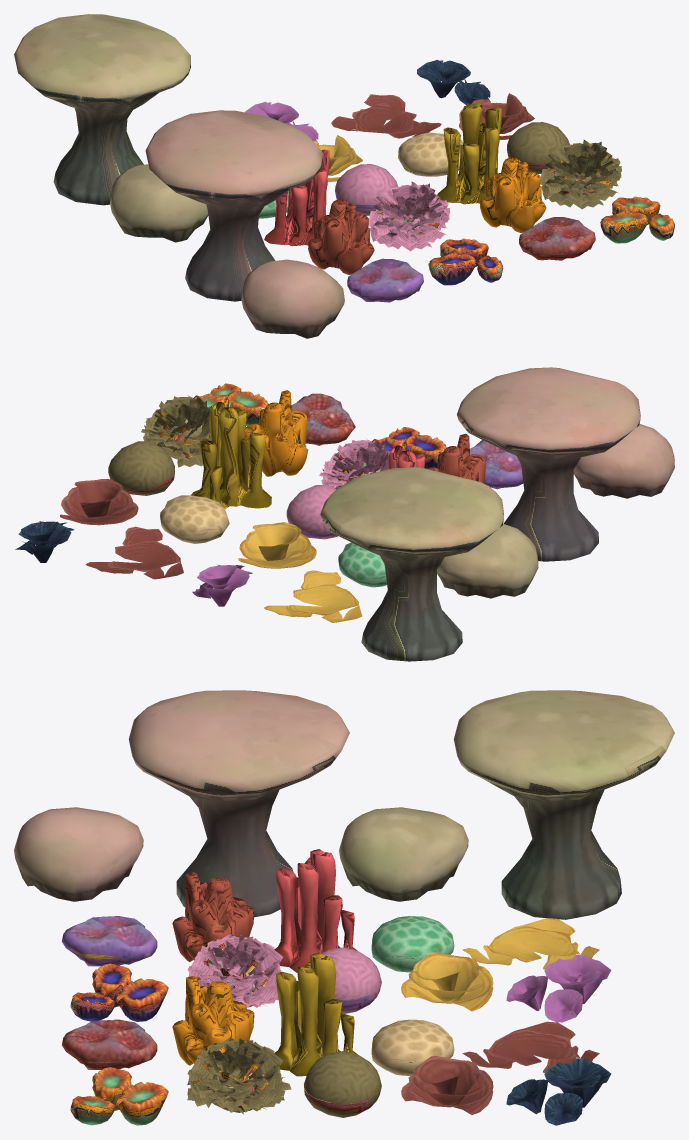
File: soft_coral_set_lod1.glb
3 views of the same model, one above another, from view 1: azimuth 30°, elevation 25°; view 2: azimuth 150°, elevation 25°; view 3: azimuth 270°, elevation 25° (orthographic). The views are drawn at different scales.
Parts seen in each view (by area): view 1: Coral02_low, Coral02_low1, Coral01_low, Coral01_low1, coral11, coral14, coral23, coral10, coral19, coral25, coral17, coral20 (+10 smaller); view 2: Coral02_low1, Coral02_low, coral11, Coral01_low1, Coral01_low, coral14, coral10, coral15, coral28, coral16, coral24, coral17 (+12 smaller); view 3: Coral02_low1, Coral02_low, Coral01_low, Coral01_low1, coral11, coral25, coral14, coral23, coral10, coral19, coral15, coral21 (+12 smaller).
Part boxes in pixels (x1,y1,x2,y2): Coral02_low: (145, 110, 322, 301); Coral02_low1: (14, 14, 190, 205); Coral01_low: (241, 259, 344, 338); Coral01_low1: (110, 164, 208, 242); coral11: (437, 103, 501, 204); coral14: (540, 140, 621, 209); coral23: (368, 181, 449, 251); coral10: (480, 157, 546, 232); coral19: (308, 199, 374, 274); coral25: (264, 149, 329, 246); coral17: (331, 94, 441, 138); coral20: (347, 258, 423, 302); Coral02_low1: (320, 467, 503, 661); Coral02_low: (457, 367, 640, 561); coral11: (191, 401, 271, 509); Coral01_low1: (437, 524, 538, 598); Coral01_low: (573, 424, 674, 498); coral14: (141, 395, 212, 467); coral10: (245, 390, 308, 476); coral15: (108, 441, 174, 495); coral28: (238, 522, 316, 568); coral16: (60, 479, 138, 525); coral24: (264, 570, 362, 622); coral17: (86, 526, 183, 579); Coral02_low1: (453, 690, 674, 919); Coral02_low: (128, 690, 349, 917); Coral01_low: (14, 807, 143, 901); Coral01_low1: (339, 807, 468, 901); coral11: (274, 952, 357, 1076); coral25: (274, 849, 357, 972); coral14: (187, 1037, 291, 1114); coral23: (187, 934, 282, 1007); coral10: (172, 975, 254, 1065); coral19: (172, 872, 254, 961); coral15: (304, 1051, 381, 1117); coral21: (506, 954, 611, 1022).
Bounding box in the file's own units: 0.2587 × 0.0827 × 0.259.
4 materials, 4 textured.
